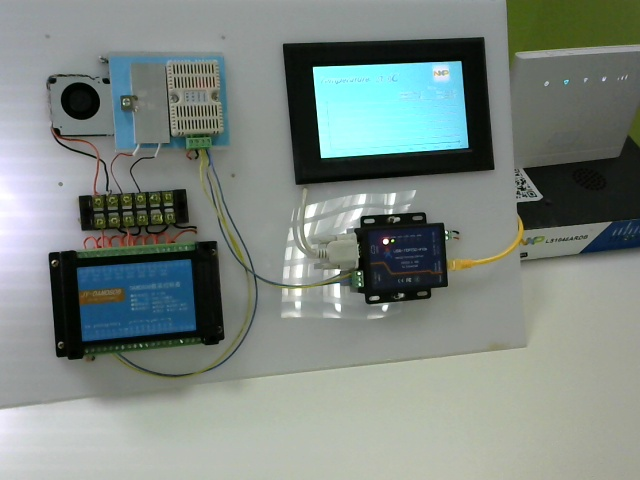fan: (38, 71, 116, 140)
heater: (123, 59, 175, 153)
modbus bridge: (344, 208, 462, 317)
relay: (49, 236, 225, 368)
termperature: (169, 54, 226, 140)
